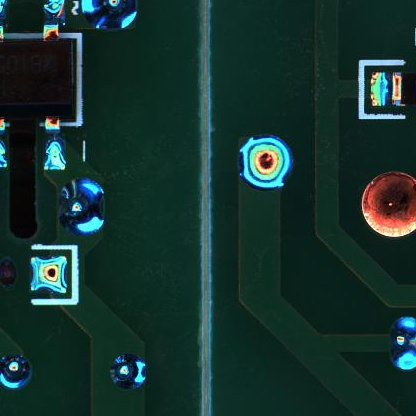spot: (239, 134, 295, 192), (59, 178, 106, 236), (389, 312, 416, 372), (110, 355, 151, 389), (1, 353, 35, 391)
